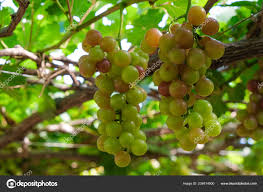grapes: (157, 9, 231, 149), (79, 27, 150, 168)
